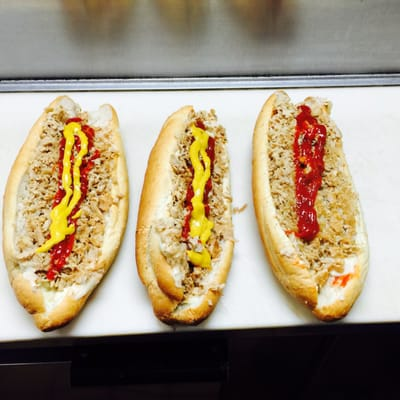burger: (2, 94, 129, 332), (251, 90, 369, 325), (134, 104, 236, 328)
